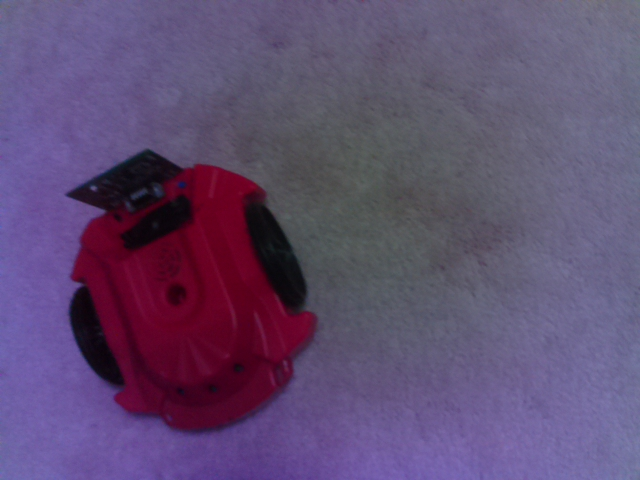chassis: (49, 144, 325, 436)
